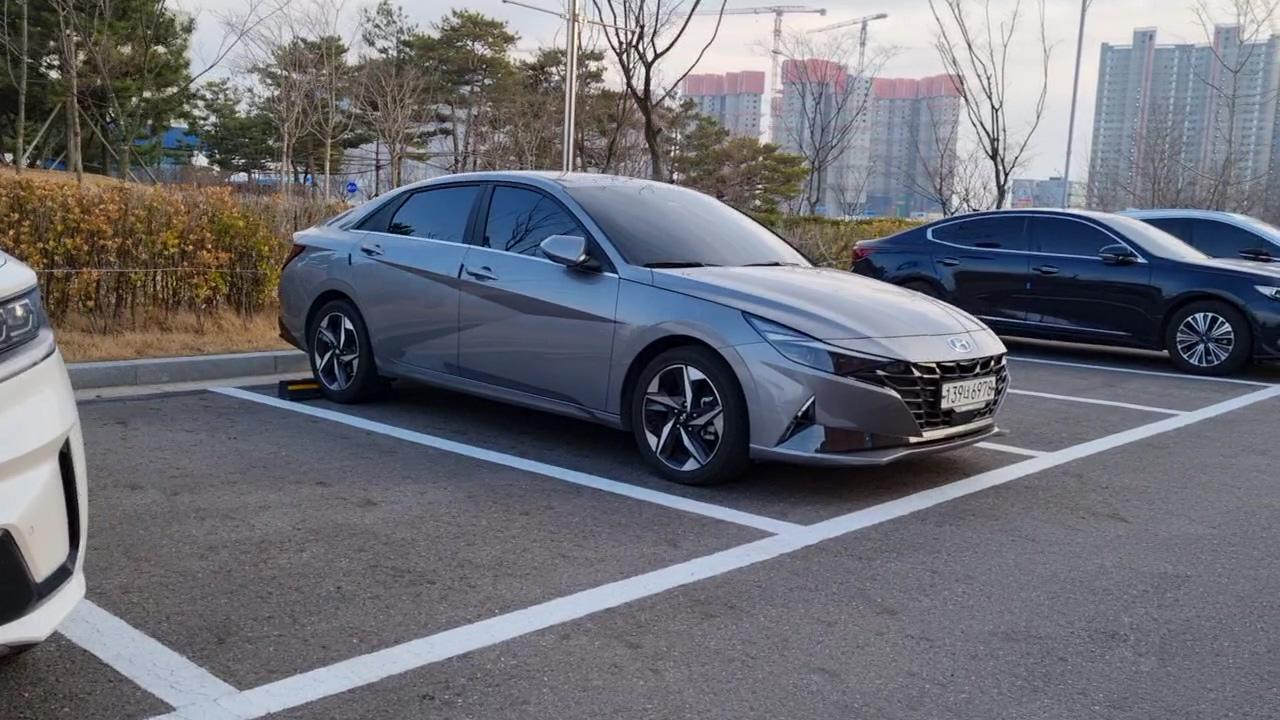empty: (80, 328, 760, 717), (1020, 314, 1279, 417), (987, 349, 1180, 468)
occupied: (274, 187, 1033, 538), (905, 224, 1280, 373)
